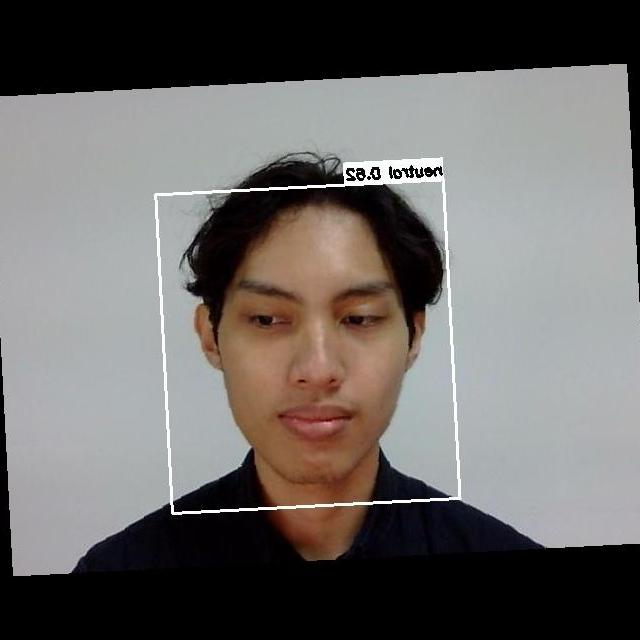Natural: (214, 255, 402, 458)
